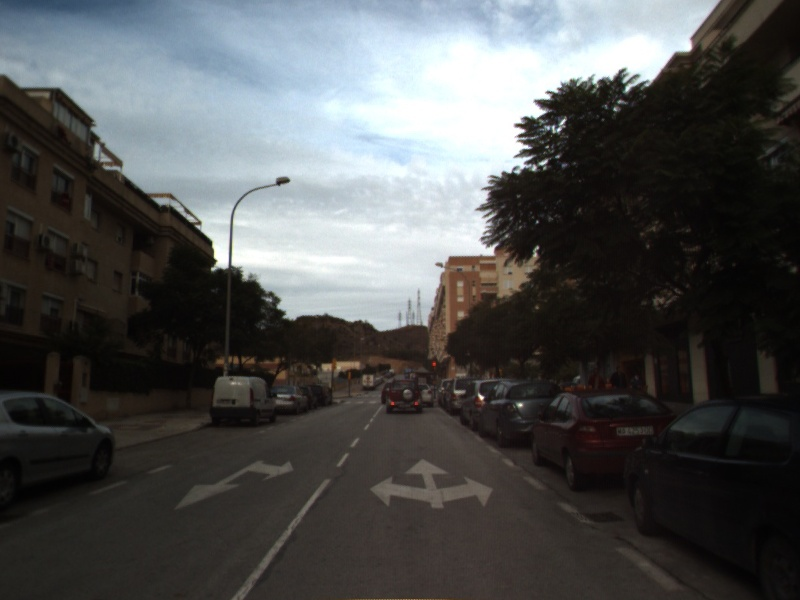STRAIGHT_LEFT_RIGHT: (368, 457, 495, 511)
